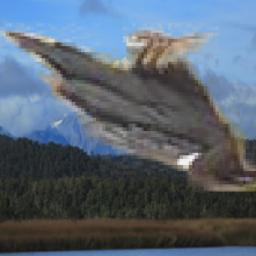Crow: (0, 24, 256, 193)
